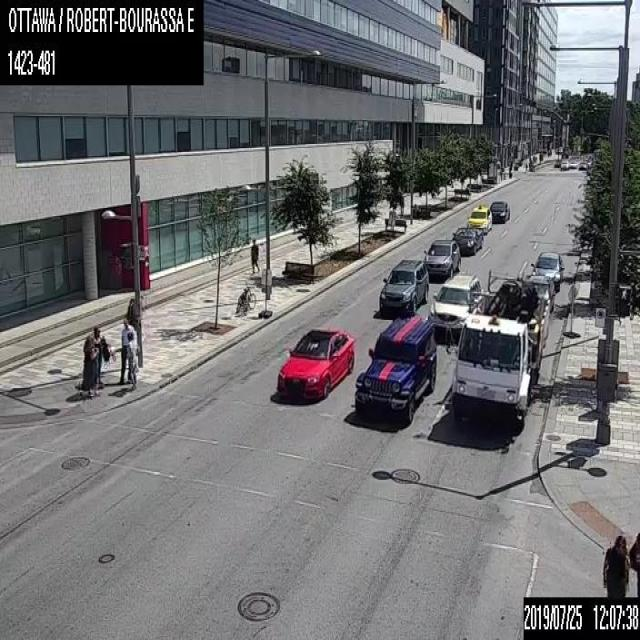pedestrian: (600, 532, 630, 597), (118, 316, 139, 391), (81, 324, 98, 397), (94, 325, 110, 384), (250, 236, 260, 275)
vehicle: (450, 271, 548, 431), (353, 313, 436, 427), (276, 327, 356, 402), (428, 274, 483, 340), (378, 260, 428, 316), (422, 239, 460, 282), (530, 251, 563, 290), (525, 274, 554, 311), (451, 226, 483, 256), (468, 204, 492, 233), (488, 200, 510, 222), (578, 160, 587, 169), (560, 159, 568, 169)
